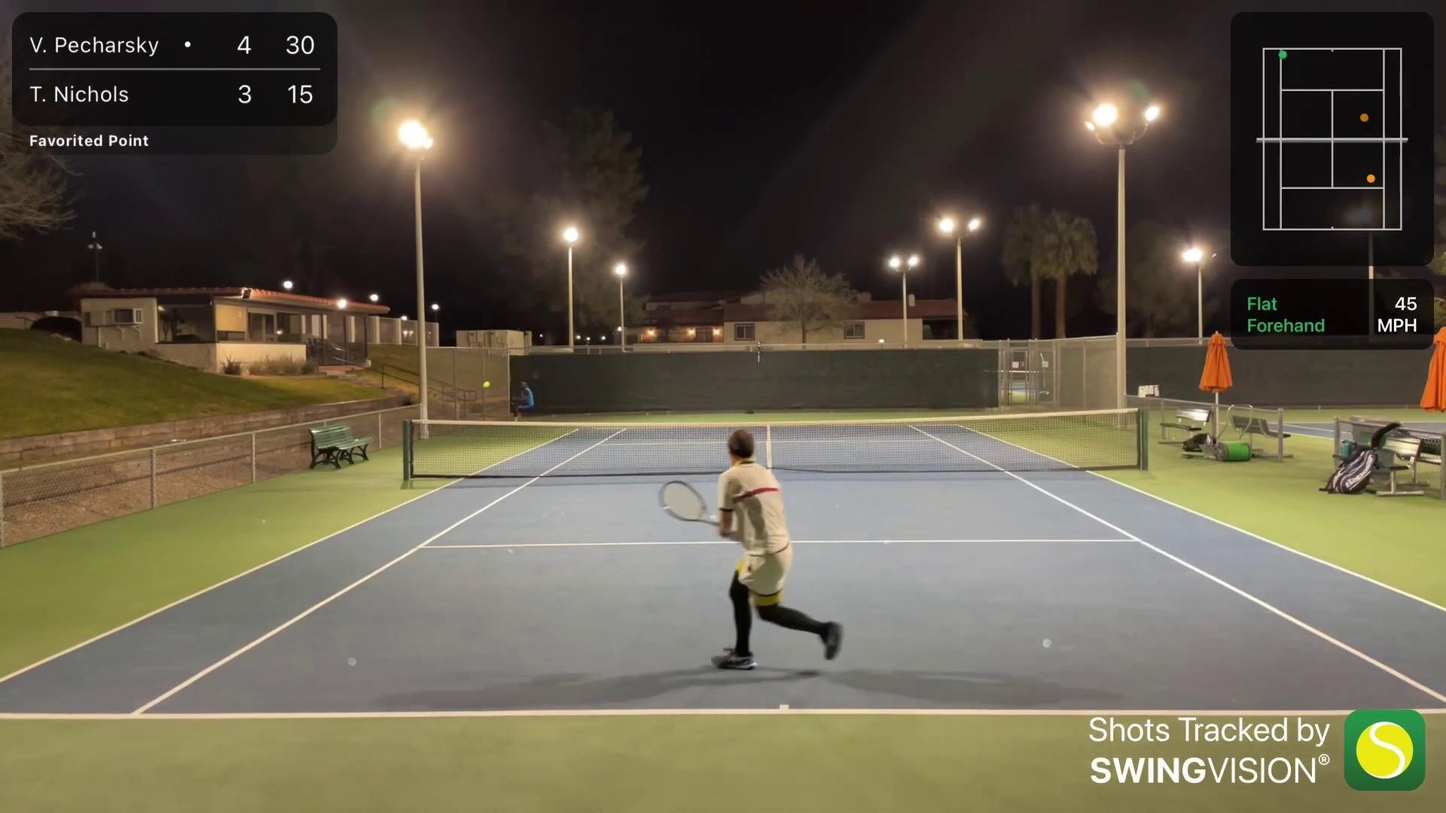ball: (483, 383, 488, 388)
